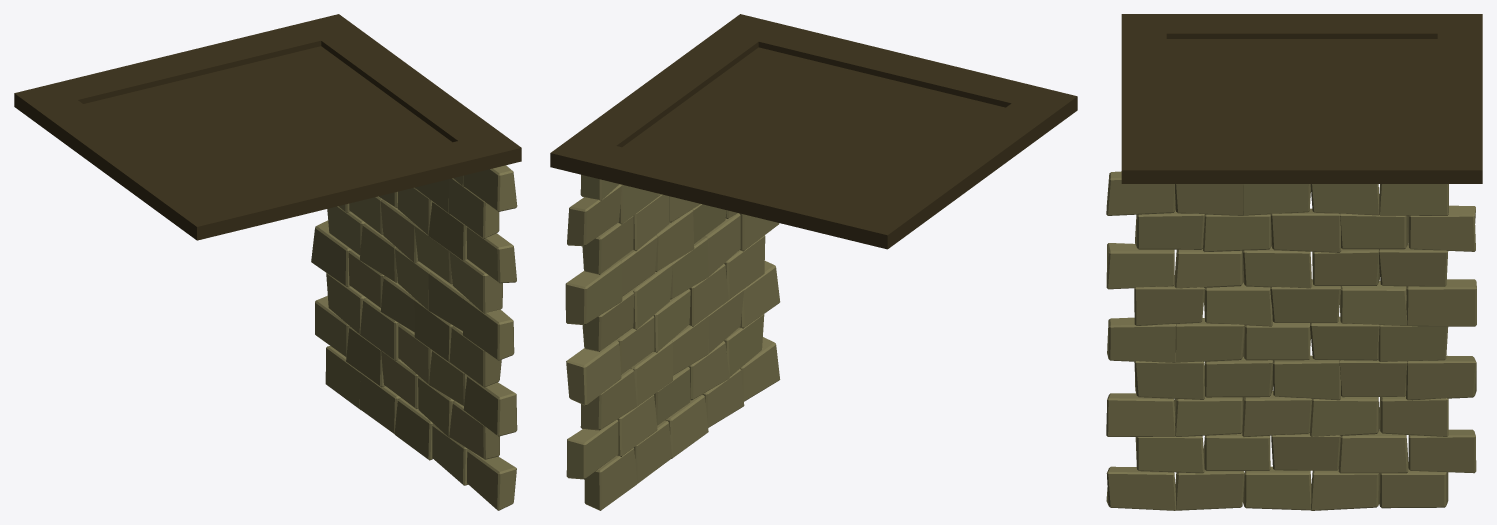
Rendered from BrickWall-Sandstone-Roof-Top.fbx.
The picture shows the model from 3 angles, left to right: view 1: azimuth 30°, elevation 25°; view 2: azimuth 150°, elevation 25°; view 3: azimuth 270°, elevation 25°; orthographic projection. The views are drawn at different scales.
Visible parts, largest first — view 1: Cube.002, Stone Base wall.004; view 2: Cube.002, Stone Base wall.004; view 3: Stone Base wall.004, Cube.002.
Part boxes in pixels (<box>): Cube.002: <box>14,14,521,240</box>; Stone Base wall.004: <box>311,165,517,510</box>; Cube.002: <box>550,14,1077,249</box>; Stone Base wall.004: <box>565,174,780,510</box>; Stone Base wall.004: <box>1106,171,1476,510</box>; Cube.002: <box>1121,14,1482,183</box>.
Size of the model in its own units: 910 by 940 by 925.
